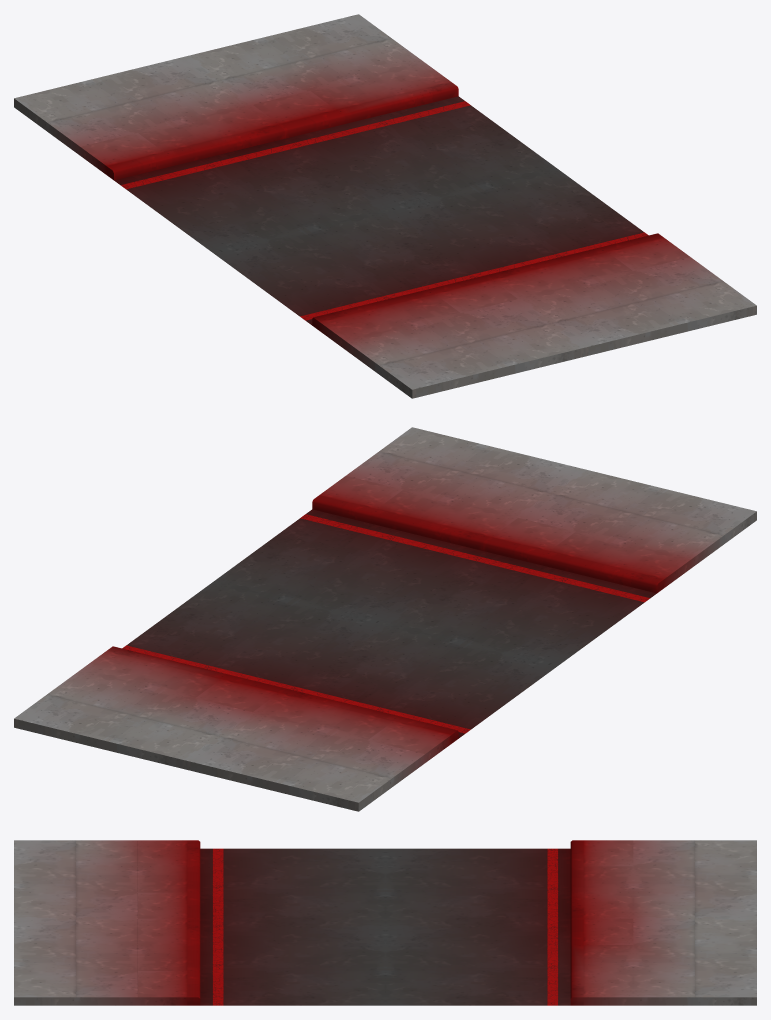
The model's file is Street_2Lane.gltf.
The picture shows the model from 3 angles, top to bottom: view 1: azimuth 30°, elevation 25°; view 2: azimuth 150°, elevation 25°; view 3: azimuth 270°, elevation 25°; orthographic projection. The views are drawn at different scales.
Visible parts, largest first — view 1: Street_2Lane; view 2: Street_2Lane; view 3: Street_2Lane.
Boxes of the visible parts, left/top/right/bottom form: Street_2Lane: left=14, top=14, right=756, bottom=398; Street_2Lane: left=14, top=427, right=756, bottom=811; Street_2Lane: left=14, top=840, right=756, bottom=1005.
Bounding box in the file's own units: 6 × 0.15 × 12.
3 materials, 3 textured.
